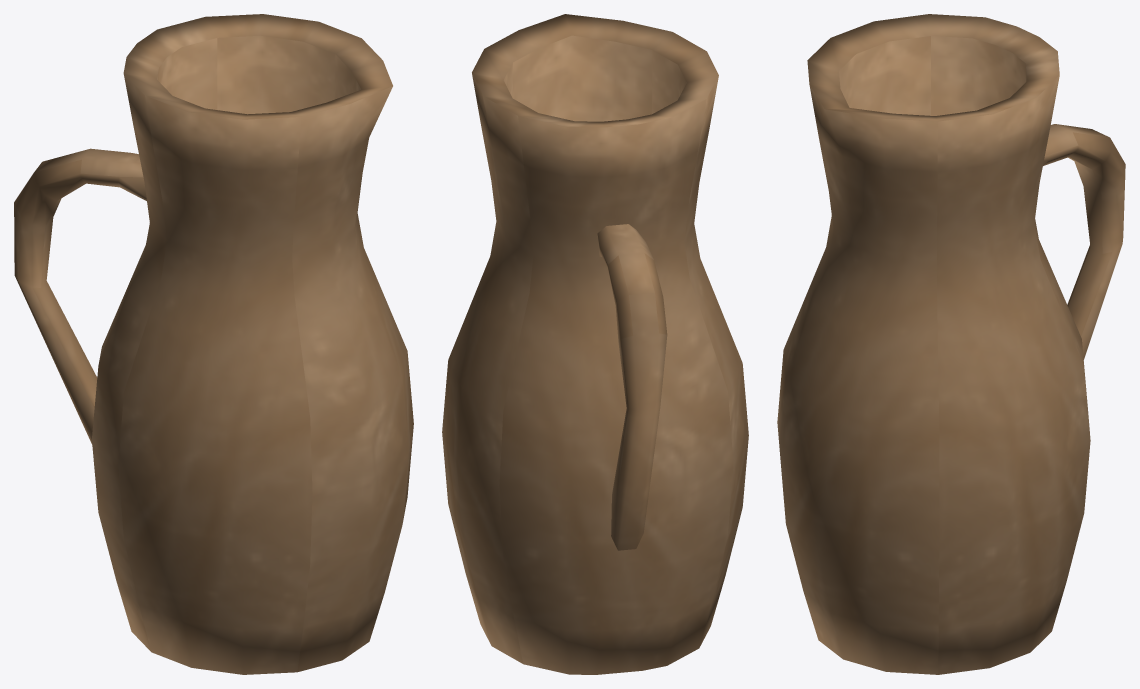
Rendered from jarra_marron.glb.
3 renders of one model, left to right at view 1: azimuth 30°, elevation 25°; view 2: azimuth 150°, elevation 25°; view 3: azimuth 270°, elevation 25°, orthographic.
Visible parts, largest first — view 1: jarra_marron_ref; view 2: jarra_marron_ref; view 3: jarra_marron_ref.
Boxes of the visible parts, x1=… form: jarra_marron_ref: x1=14, y1=14, x2=413, y2=674; jarra_marron_ref: x1=442, y1=14, x2=748, y2=674; jarra_marron_ref: x1=777, y1=14, x2=1125, y2=674.
Bounding box in the file's own units: 0.1437 × 0.2647 × 0.1499.
Materials: 1 (1 with a texture image).
